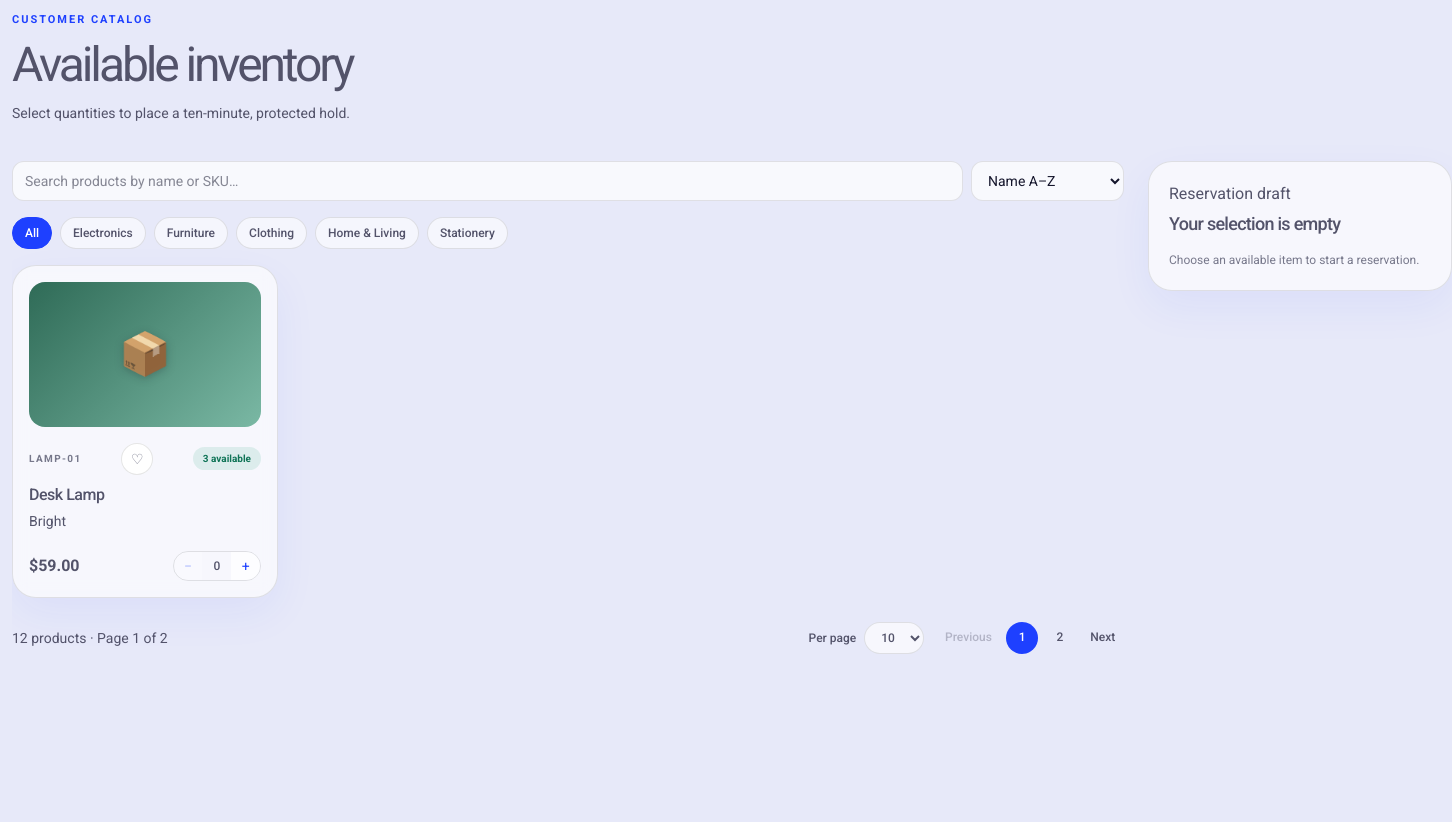
Test: CustomerCatalog › paginates the catalog and navigates between pages
Expected: the heading "Desk Lamp" is shown, [29,484,104,504]
Expected: the text "12 products · Page 1 of 2" is shown, [12,628,168,648]
What coordinates should you click on to do the following:
click the button with aria-label "Next page"
I would click on:
 (1103, 637)
Its box is [1090,630,1115,644].
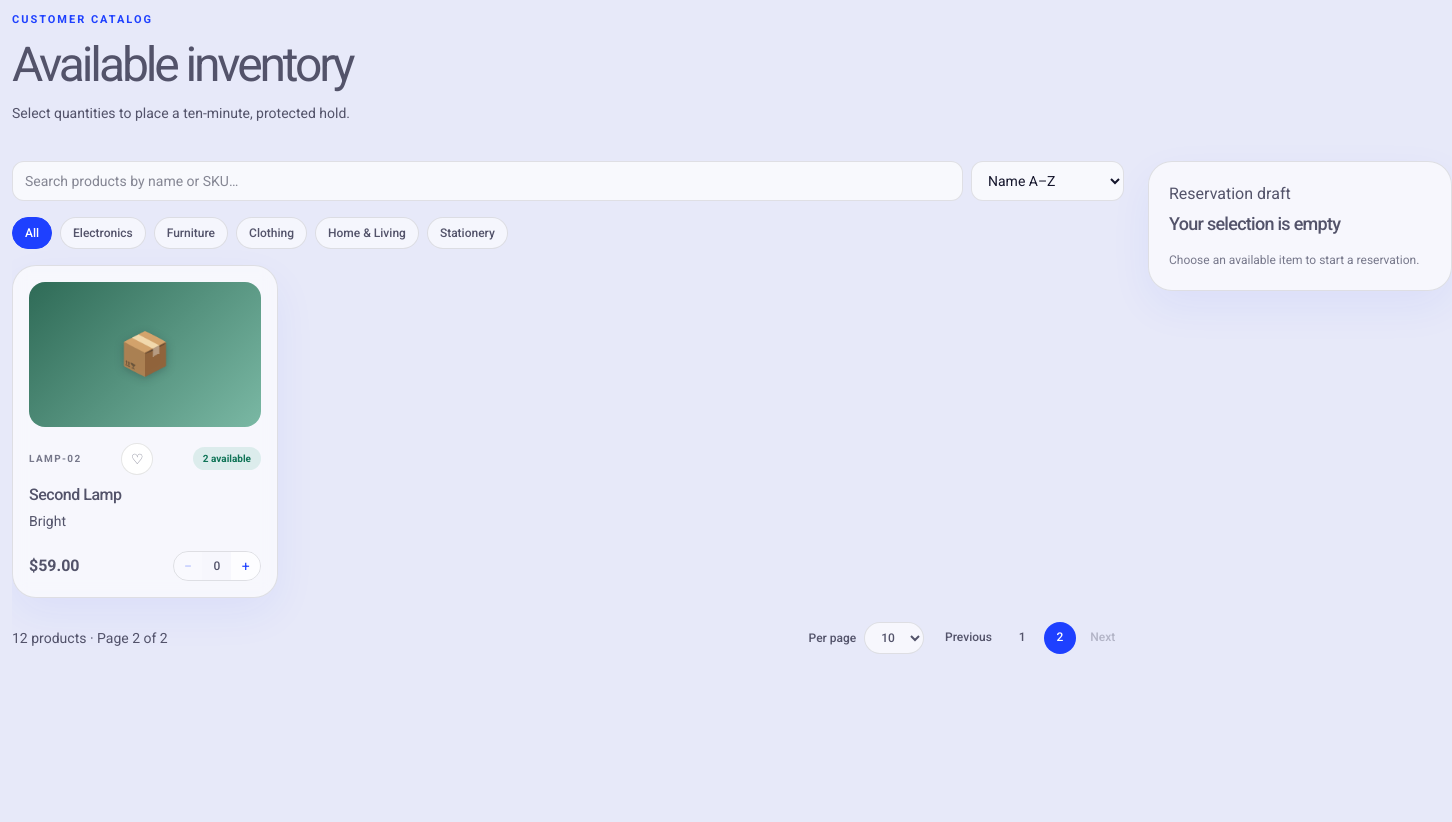
Now the heading "Second Lamp" is shown, box [29,484,122,504]
Now the text "12 products · Page 2 of 2" is shown, box [12,628,168,648]
